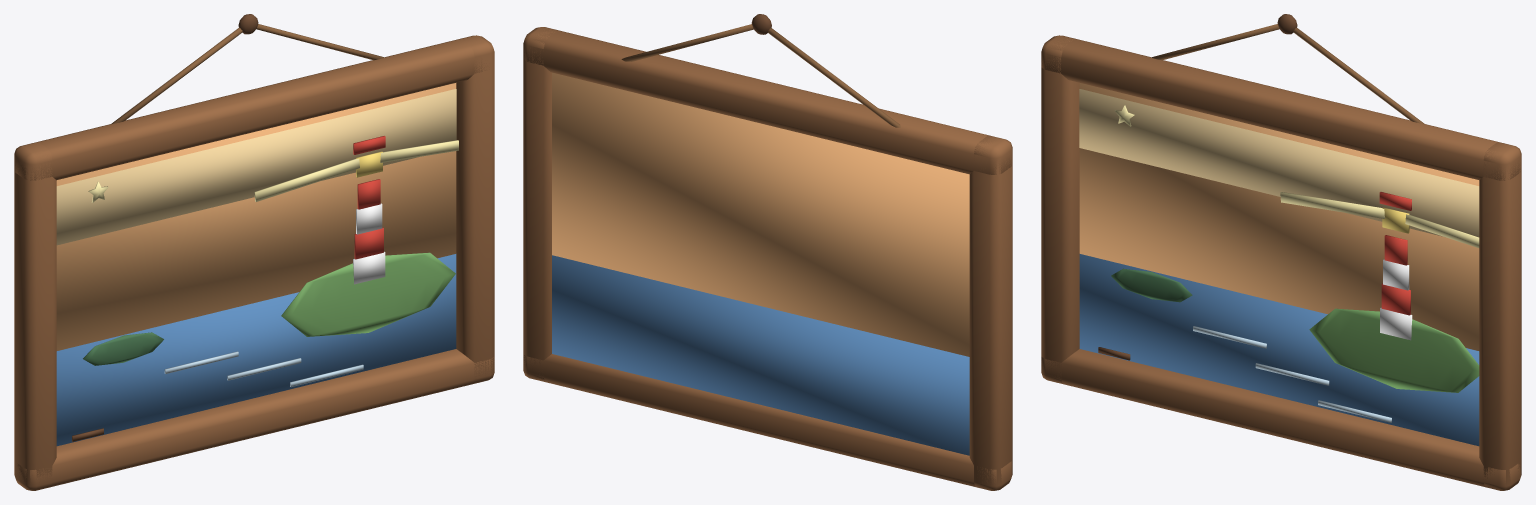
The model's file is lighthouse-painting.glb.
3 renders of one model, left to right at view 1: azimuth 30°, elevation 25°; view 2: azimuth 150°, elevation 25°; view 3: azimuth 330°, elevation 25°, orthographic.
Parts seen in each view (by area): view 1: frame; view 2: frame; view 3: frame.
Part boxes in pixels (left/top/right/bottom): frame: left=14, top=14, right=494, bottom=490; frame: left=523, top=14, right=1012, bottom=490; frame: left=1041, top=14, right=1521, bottom=490.
Bounding box in the file's own units: 0.9 × 0.758 × 0.062.
